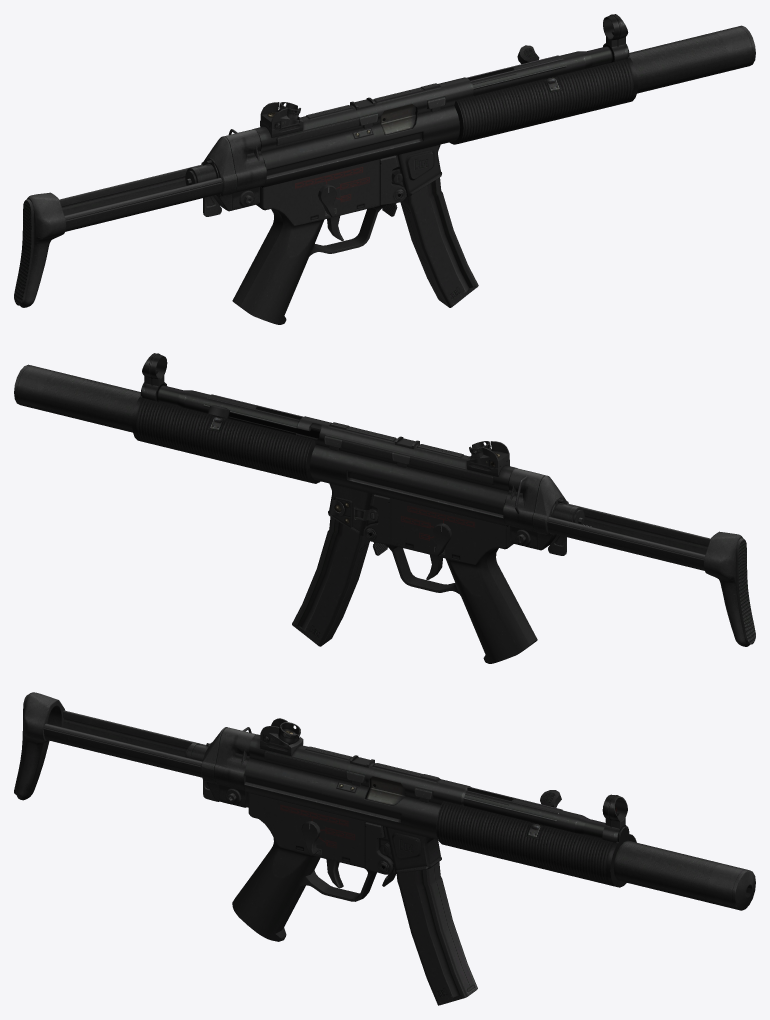
3 views of the same model, one above another, from view 1: azimuth 30°, elevation 25°; view 2: azimuth 150°, elevation 25°; view 3: azimuth 330°, elevation 25° (orthographic).
Visible parts, largest first — view 1: mp5; view 2: mp5; view 3: mp5.
Boxes of the visible parts, x1,y1,x2,y2 form: mp5: (14, 14, 755, 324); mp5: (14, 353, 755, 663); mp5: (14, 692, 755, 1005).
Size of the model in its own units: 0.7475 by 0.2412 by 0.0547.
5 materials, 5 textured.
